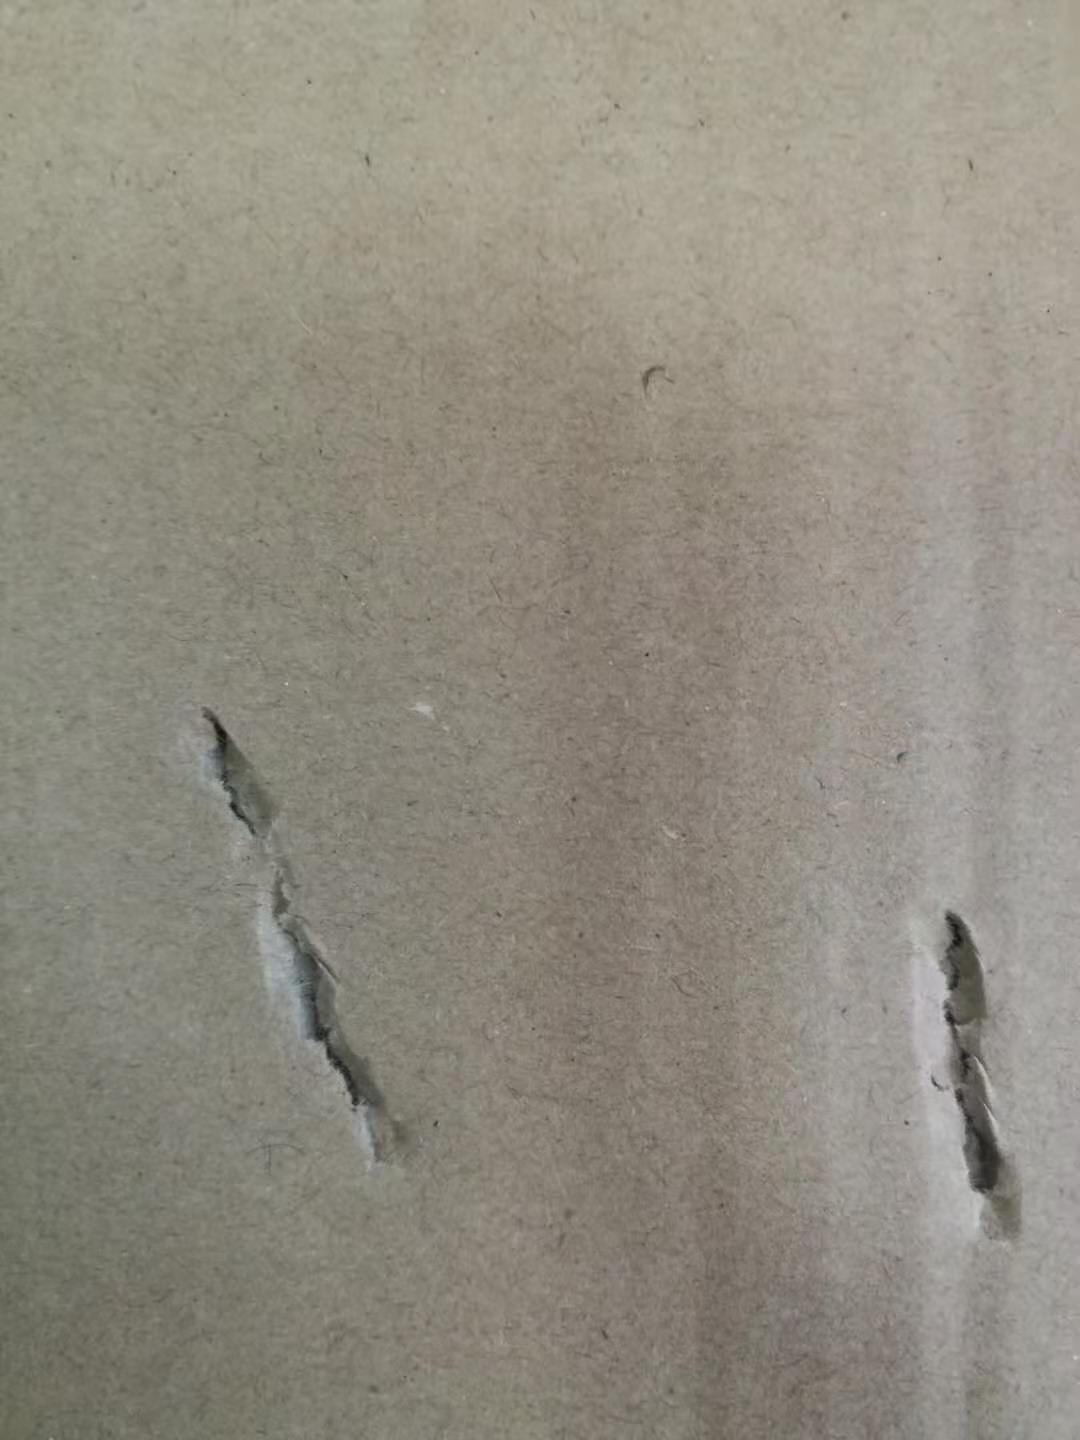defect: (129, 655, 463, 1198), (866, 862, 1051, 1278)
